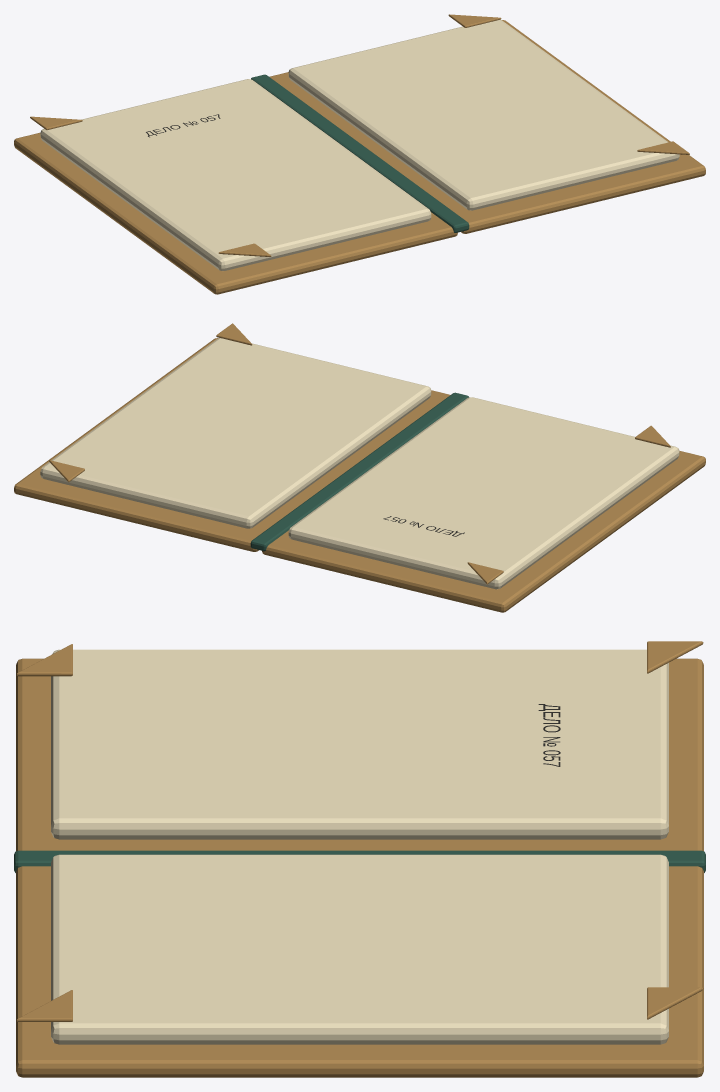
File: DossierOpen.fbx
3 renders of one model, top to bottom at view 1: azimuth 30°, elevation 25°; view 2: azimuth 150°, elevation 25°; view 3: azimuth 270°, elevation 25°, orthographic. The views are drawn at different scales.
Parts seen in each view (by area): view 1: Paper bundle.001, Paper bundle, Folder cover, Folder cover.001, Cloth hinge; view 2: Paper bundle.001, Paper bundle, Folder cover, Folder cover.001, Cloth hinge; view 3: Paper bundle, Paper bundle.001, Folder cover.001, Folder cover, Cloth hinge, Corner buckle, Corner buckle.001, Corner buckle.003, Corner buckle.002.
Part boxes in pixels (x1=…): Paper bundle.001: x1=288, y1=19, x2=679, y2=210; Paper bundle: x1=40, y1=79, x2=431, y2=270; Folder cover: x1=14, y1=132, x2=457, y2=294; Folder cover.001: x1=269, y1=20, x2=705, y2=233; Cloth hinge: x1=251, y1=74, x2=469, y2=232; Paper bundle.001: x1=40, y1=337, x2=431, y2=528; Paper bundle: x1=288, y1=397, x2=679, y2=589; Folder cover: x1=262, y1=451, x2=705, y2=612; Folder cover.001: x1=14, y1=338, x2=450, y2=551; Cloth hinge: x1=250, y1=392, x2=468, y2=551; Paper bundle: x1=51, y1=649, x2=668, y2=839; Paper bundle.001: x1=51, y1=854, x2=668, y2=1044; Folder cover.001: x1=16, y1=866, x2=703, y2=1077; Folder cover: x1=16, y1=658, x2=703, y2=851; Cloth hinge: x1=14, y1=850, x2=705, y2=872; Corner buckle: x1=16, y1=644, x2=72, y2=676; Corner buckle.001: x1=647, y1=641, x2=703, y2=673; Corner buckle.003: x1=647, y1=987, x2=703, y2=1019; Corner buckle.002: x1=16, y1=990, x2=72, y2=1021.
Size of the model in its own units: 0.456 by 0.0245 by 0.328.
